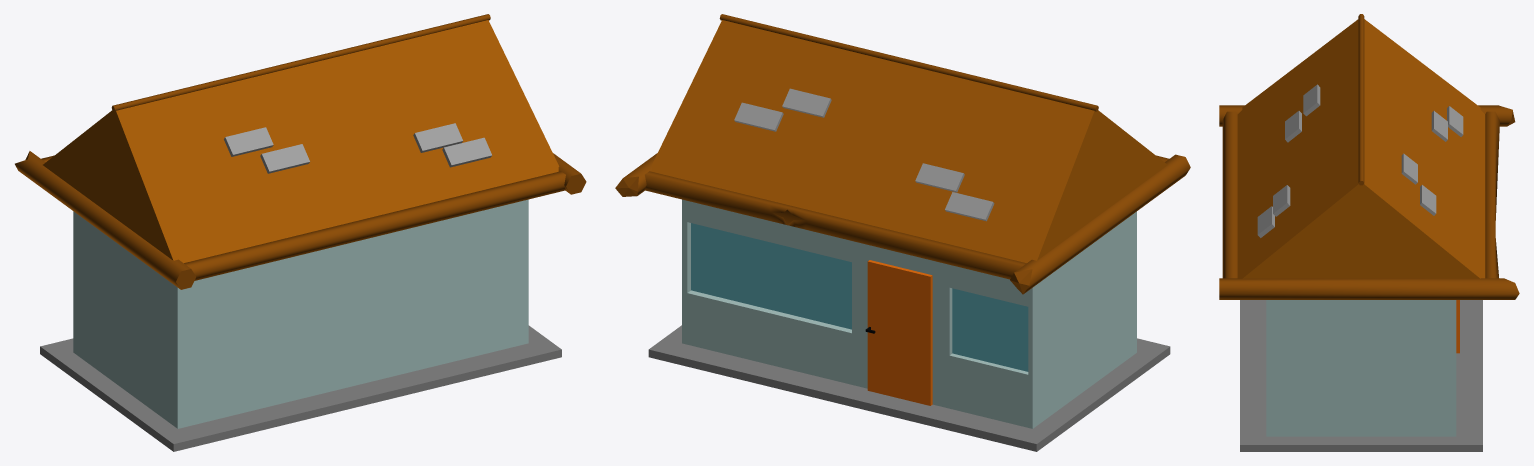
Rendered from House14.fbx.
3 views of the same model, side by side, from view 1: azimuth 30°, elevation 25°; view 2: azimuth 150°, elevation 25°; view 3: azimuth 270°, elevation 25° (orthographic). The views are drawn at different scales.
Parts seen in each view (by area): view 1: House.014; view 2: House.014; view 3: House.014.
Part boxes in pixels (left/top/right/bottom): House.014: left=15, top=14, right=586, bottom=451; House.014: left=615, top=14, right=1190, bottom=451; House.014: left=1219, top=14, right=1519, bottom=451.
Bounding box in the file's own units: 720 × 495 × 501.
